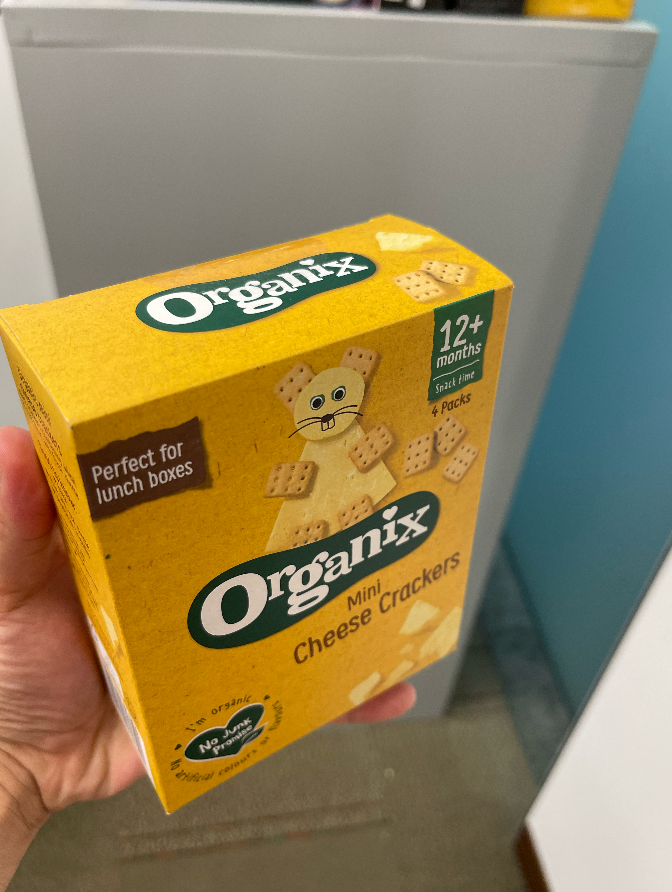crackers_1g-99g: (87, 268, 475, 760)
